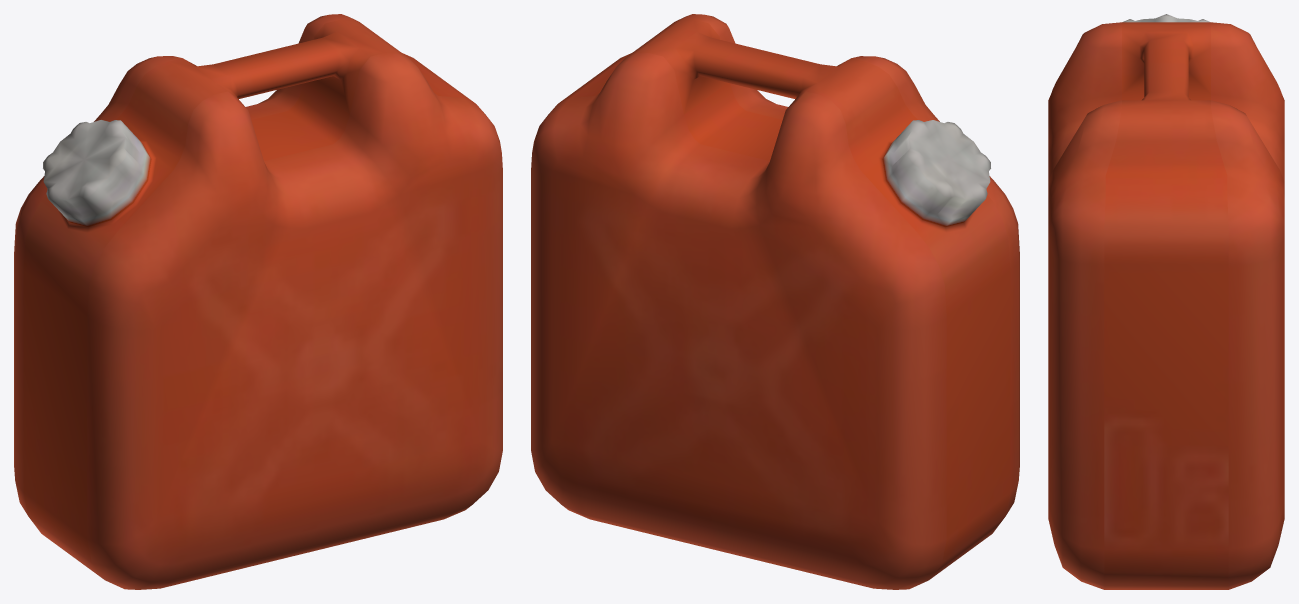
3 renders of one model, left to right at view 1: azimuth 30°, elevation 25°; view 2: azimuth 150°, elevation 25°; view 3: azimuth 270°, elevation 25°, orthographic. The views are drawn at different scales.
Bounding box in the file's own units: 6.29 × 6.81 × 3.19.
Materials: 1 (1 with a texture image).
